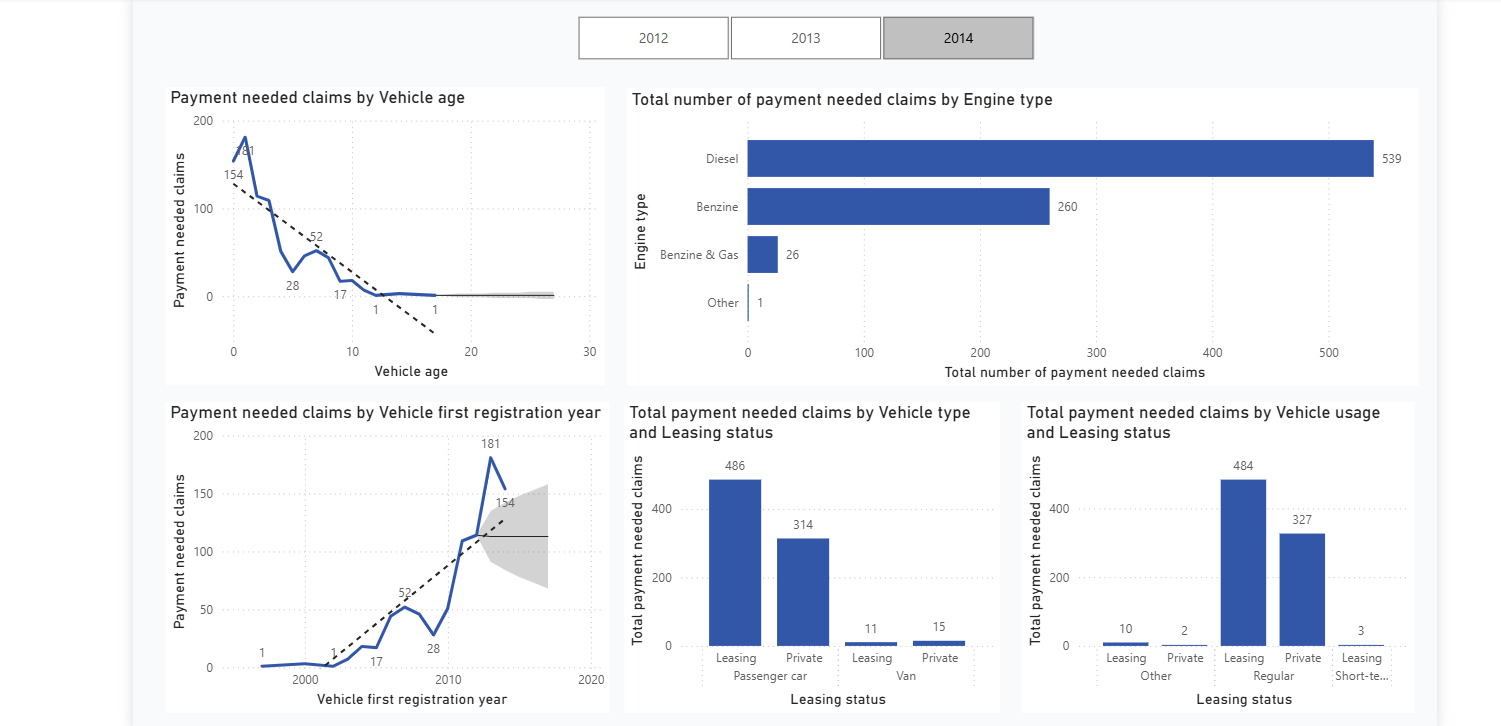

Layout of this report page (visuals, bound fields, positions):
{"tool":"powerbi","page":{"name":"Trends in claims","canvas":[1280,720],"ordinal":2},"visuals":[{"type":"lineChart","fields":{"Y":["calculations.TotalNonZeroPayments"],"Category":["policies.VehicleFirstRegistrationYear"]},"box":[32.1,398,435.7,304.4],"z":0},{"type":"lineChart","fields":{"Y":["calculations.TotalNonZeroPayments"],"Category":["policies.VehicleAge"]},"box":[32.5,88.8,431.2,292.5],"z":1000},{"type":"columnChart","fields":{"Category":["policies.VehicleType","policies.LeasingStatus"],"Y":["calculations.TotalNonZeroPayments"]},"box":[481.8,398,368.7,304.4],"z":2000},{"type":"columnChart","fields":{"Y":["calculations.TotalNonZeroPayments"],"Category":["policies.VehicleUsage","policies.LeasingStatus"]},"box":[872.8,398,385.4,304.4],"z":3000},{"type":"clusteredBarChart","fields":{"Y":["calculations.TotalNonZeroPayments"],"Category":["policies.EngineType"]},"box":[484.6,89.4,776.4,291.9],"z":4000},{"type":"slicer","fields":{"Values":["policies.year"]},"box":[410.6,12.6,497.1,55.9],"z":5000}]}

Visuals, with their boxes on the page's 1280x720 design canvas (x1, y1, x2, y2). These are canvas units, not pixel positions in the 1501x726 screenshot, which may show the page scaled, cropped or inside an application window:
lineChart - calculations.TotalNonZeroPayments x policies.VehicleFirstRegistrationYear: Rect(32, 398, 468, 702)
lineChart - calculations.TotalNonZeroPayments x policies.VehicleAge: Rect(32, 89, 464, 381)
columnChart - policies.VehicleType x policies.LeasingStatus: Rect(482, 398, 850, 702)
columnChart - calculations.TotalNonZeroPayments x policies.VehicleUsage: Rect(873, 398, 1258, 702)
clusteredBarChart - calculations.TotalNonZeroPayments x policies.EngineType: Rect(485, 89, 1261, 381)
slicer - policies.year: Rect(411, 13, 908, 68)
